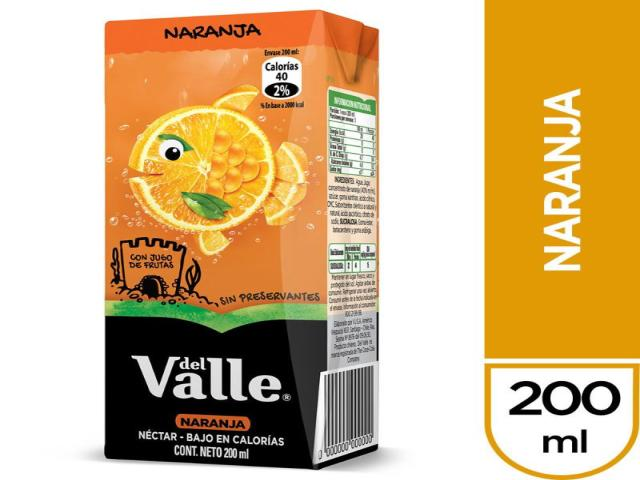drink_box: (88, 6, 402, 480)
